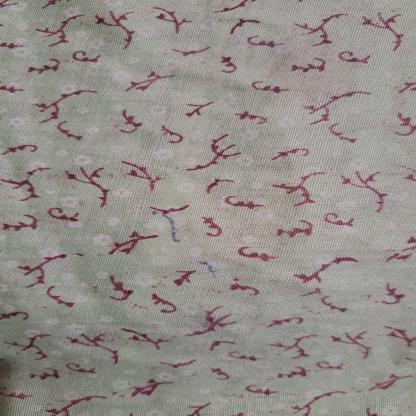spot: (260, 68, 358, 102), (275, 44, 337, 92), (148, 208, 187, 245), (196, 254, 226, 278)
